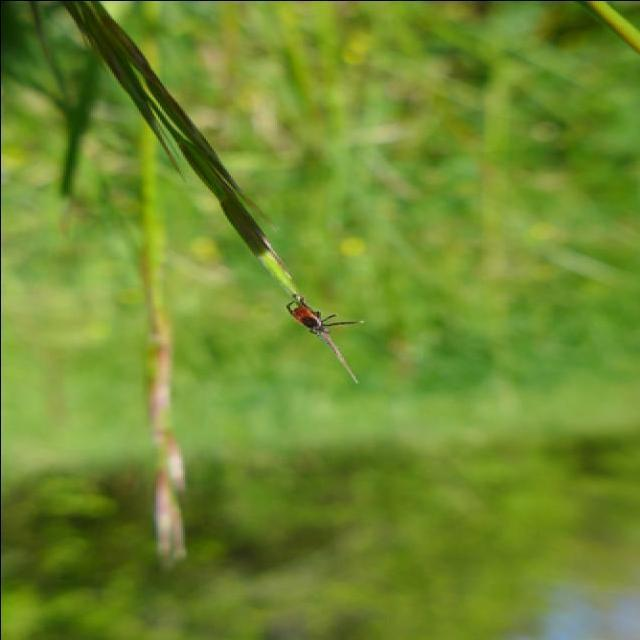Ixodes Ricinus-F: (286, 296, 364, 379)
